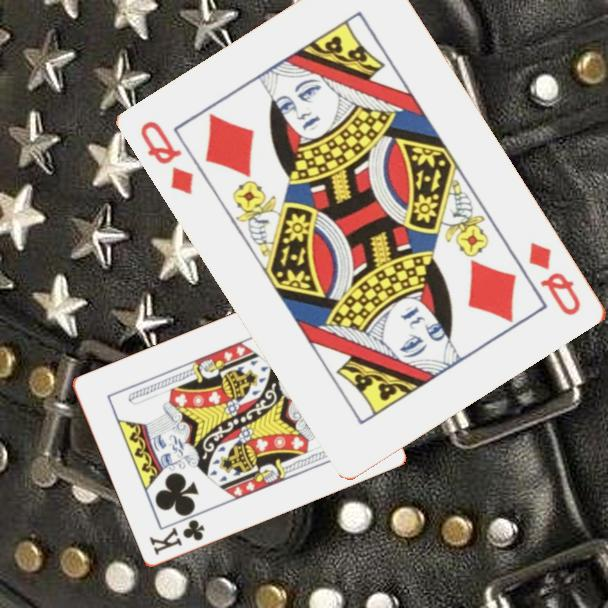c13: (145, 516, 207, 558)
d12: (137, 117, 198, 198), (525, 238, 585, 319)
